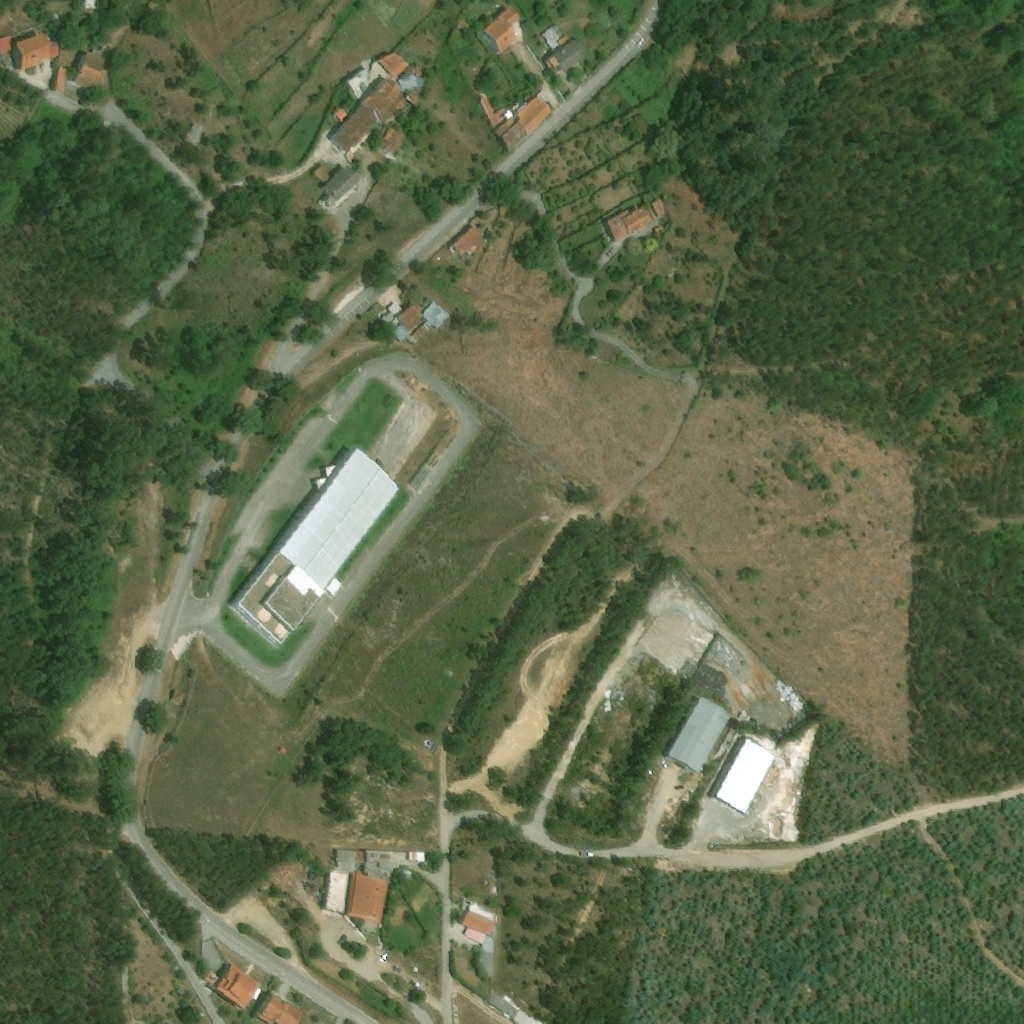0 no-damage: (229, 447, 400, 646), (327, 51, 423, 155), (322, 849, 393, 934), (663, 696, 730, 774), (709, 737, 775, 815), (475, 95, 550, 152), (378, 302, 448, 345), (203, 964, 263, 1010), (460, 902, 496, 977), (442, 224, 491, 273), (489, 989, 542, 1023), (481, 7, 520, 53), (601, 207, 650, 243), (10, 33, 56, 71), (319, 168, 359, 210), (67, 47, 105, 90), (255, 993, 304, 1023), (545, 40, 582, 74), (339, 68, 367, 100), (378, 127, 404, 156), (539, 24, 568, 50), (178, 123, 205, 147), (309, 164, 330, 184), (50, 67, 65, 93), (329, 105, 347, 123), (648, 200, 664, 219), (405, 851, 428, 864), (169, 690, 186, 707), (0, 37, 10, 55), (651, 226, 664, 235)
3 destroyed: (739, 680, 817, 745)
4 un-classified: (77, 0, 94, 13)
